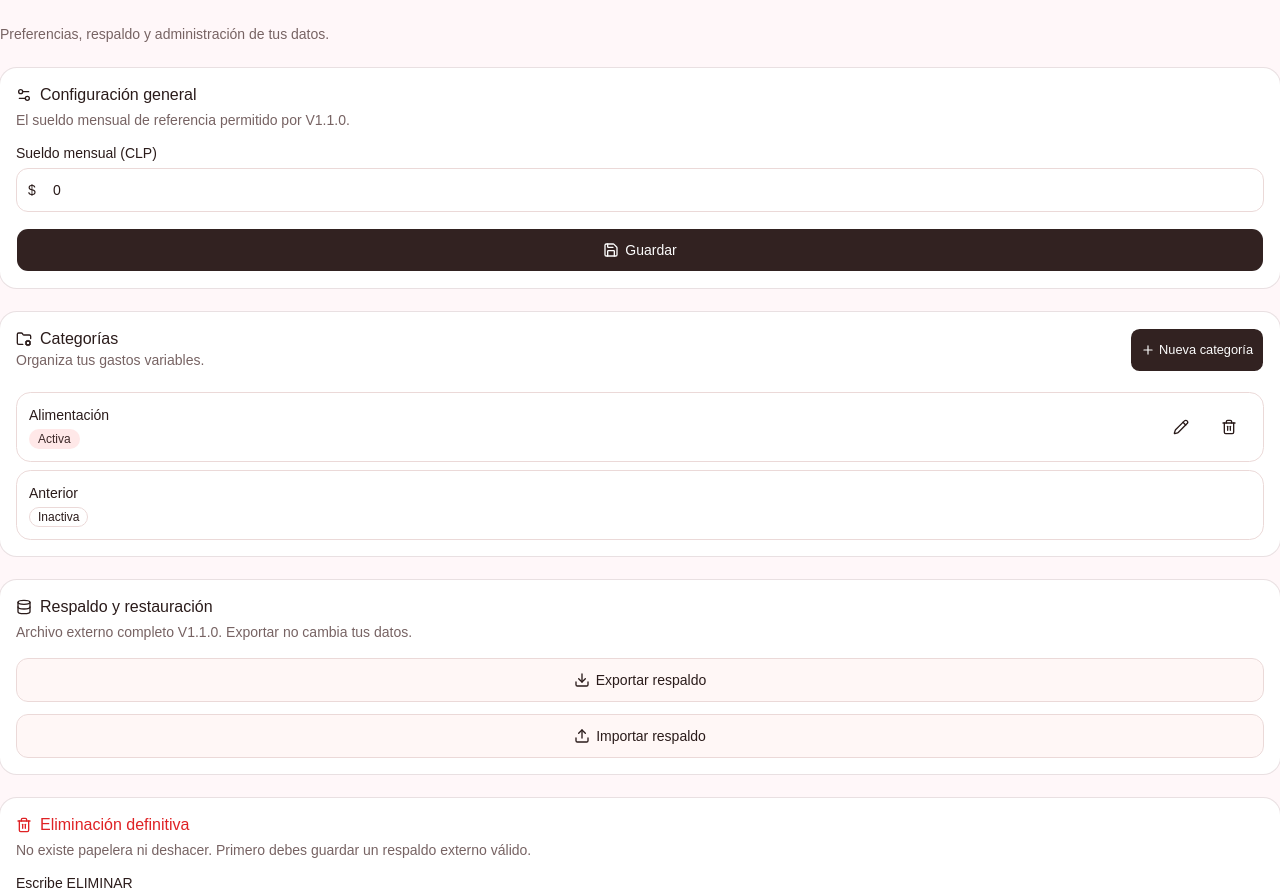
SettingsPage › opens a non-autofocused Sheet, creates a category, and updates the list
Expected: the text "Alimentación" is shown, x1=29 y1=407 x2=109 y2=423
Click the button "Nueva categoría". click: (1197, 350)
box: x1=1130 y1=328 x2=1264 y2=372
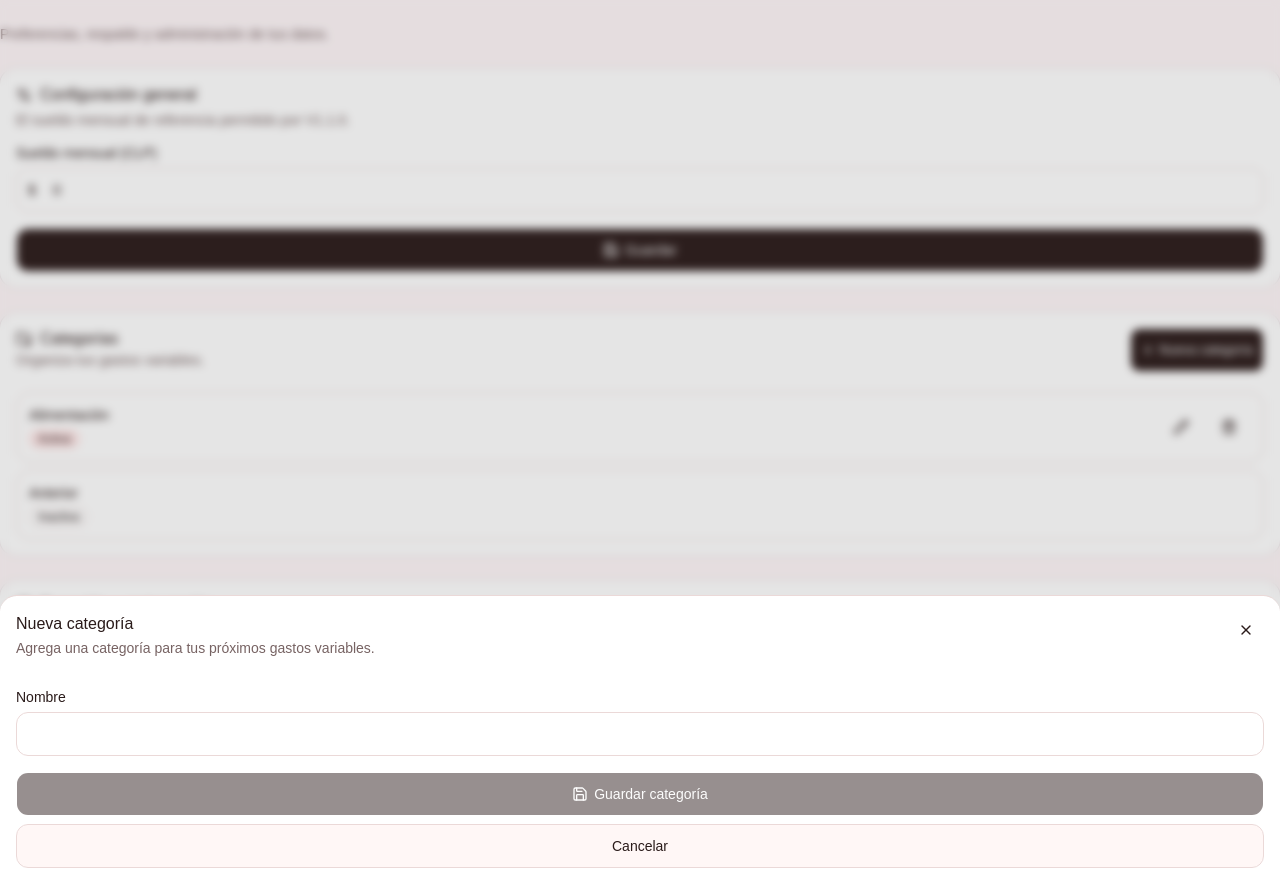
Result: the heading "Nueva categoría" is shown at x1=16 y1=615 x2=133 y2=632
Type "Educación" into the field labelled "Nombre". click: (640, 734)
box: x1=16 y1=712 x2=1264 y2=756
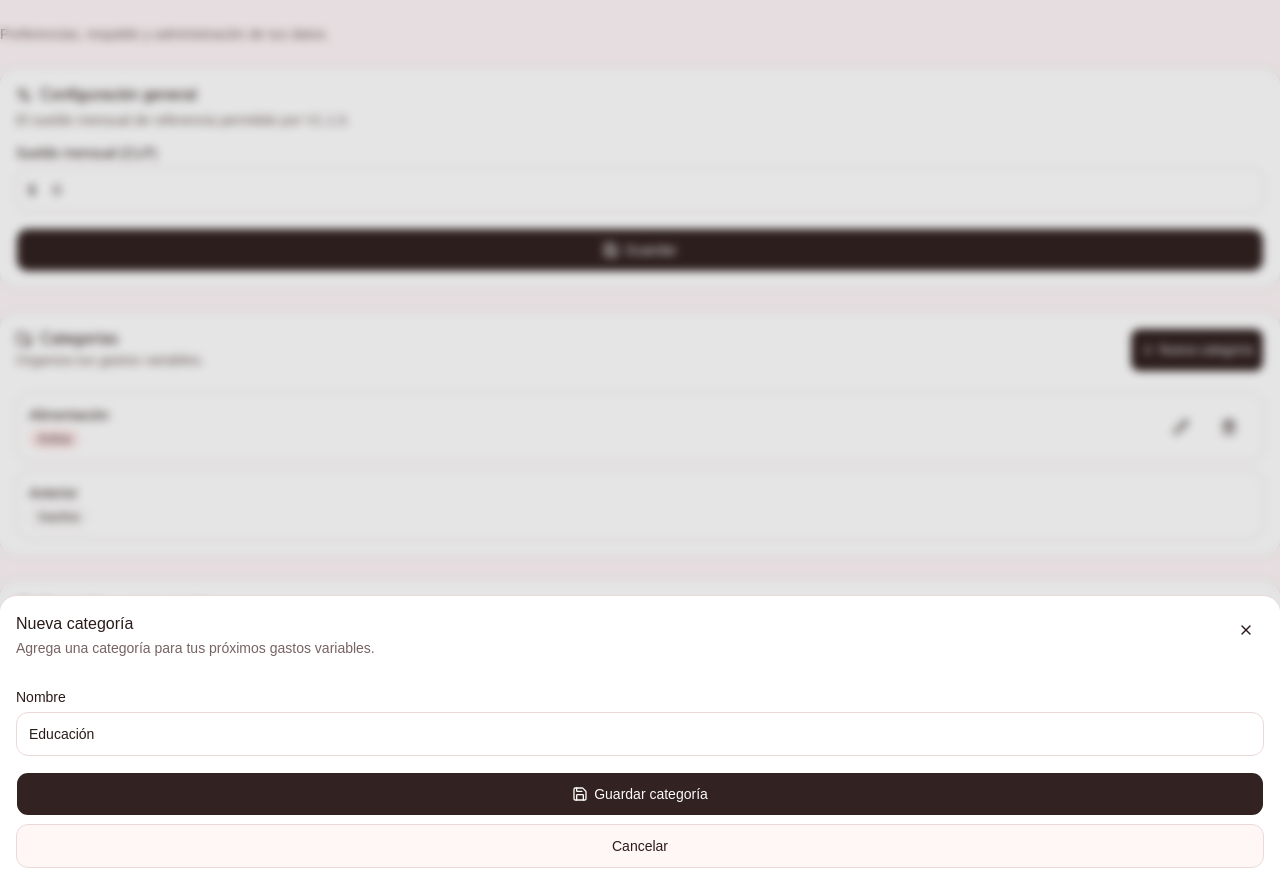
Click the button "Guardar categoría". click: (640, 794)
box: x1=16 y1=772 x2=1264 y2=816
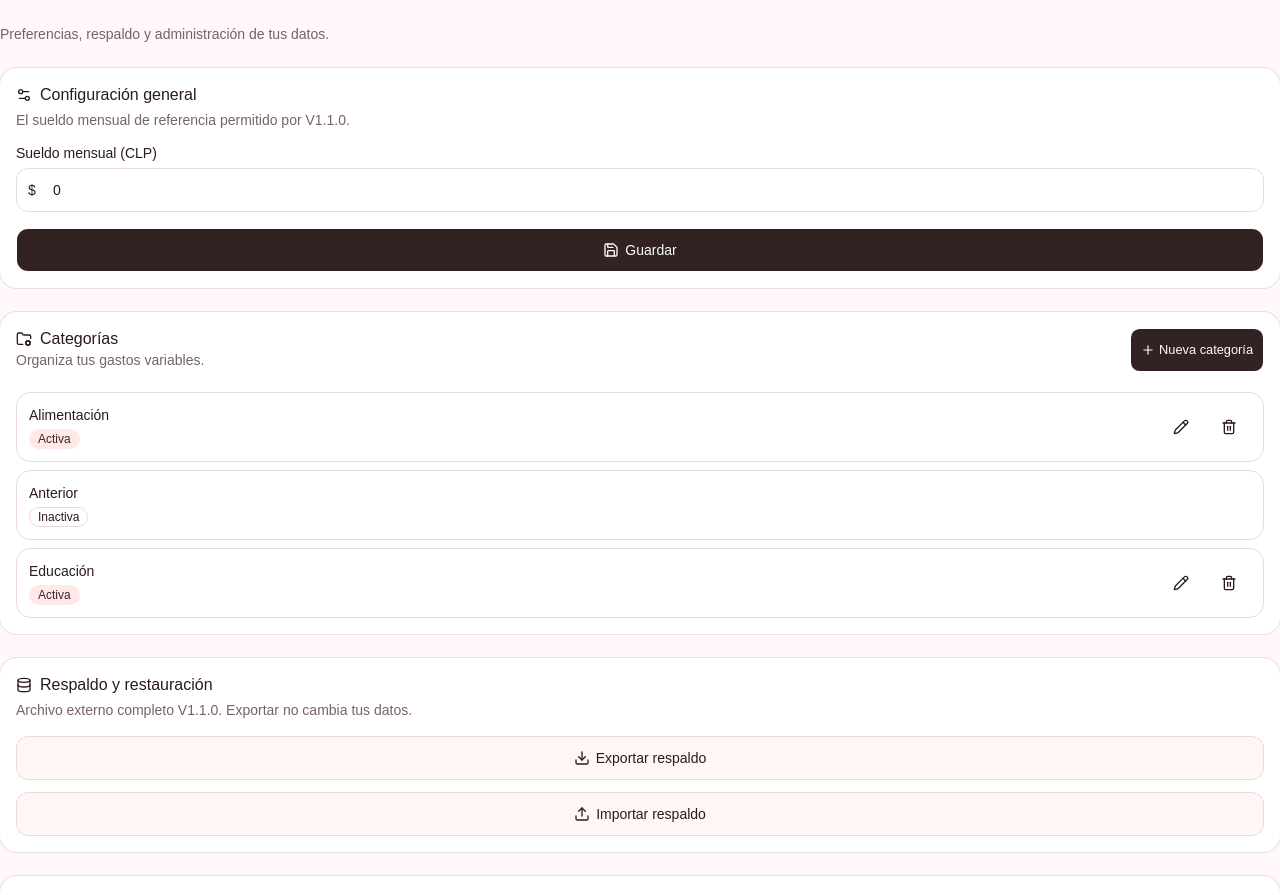
Result: the text "Educación" is shown at x1=29 y1=563 x2=94 y2=579
